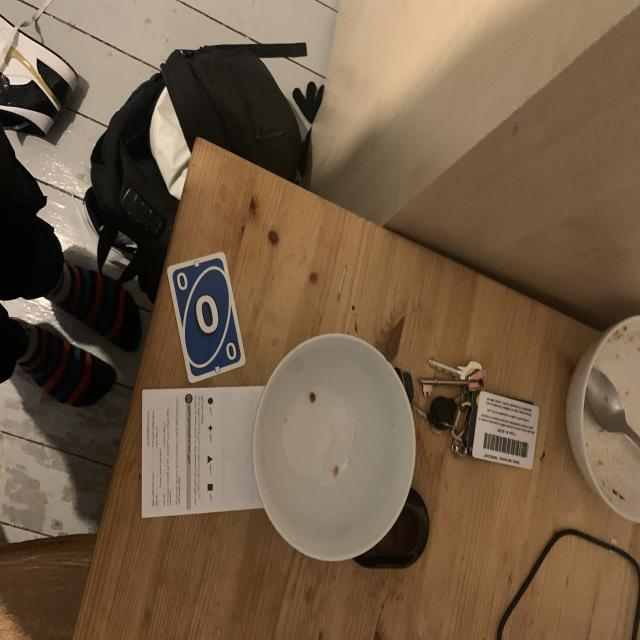lblue-0: (173, 270, 190, 293)
